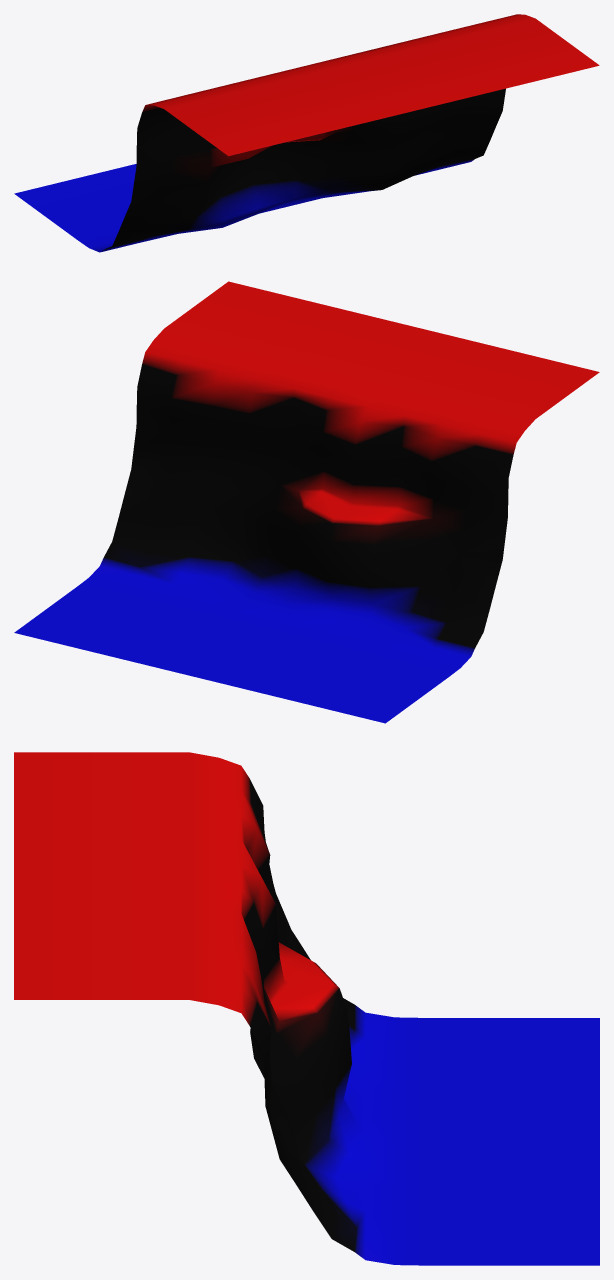
The model's file is RiveCliff01B Background.fbx.
The picture shows the model from 3 angles, top to bottom: view 1: azimuth 30°, elevation 25°; view 2: azimuth 150°, elevation 25°; view 3: azimuth 270°, elevation 25°; orthographic projection. The views are drawn at different scales.
Visible parts, largest first — view 1: RiveCliff01B Background; view 2: RiveCliff01B Background; view 3: RiveCliff01B Background.
Boxes of the visible parts, x1,y1,x2,y2 form: RiveCliff01B Background: [14, 14, 599, 252]; RiveCliff01B Background: [14, 281, 599, 723]; RiveCliff01B Background: [14, 752, 599, 1265].
Size of the model in its own units: 2 by 1 by 2.
